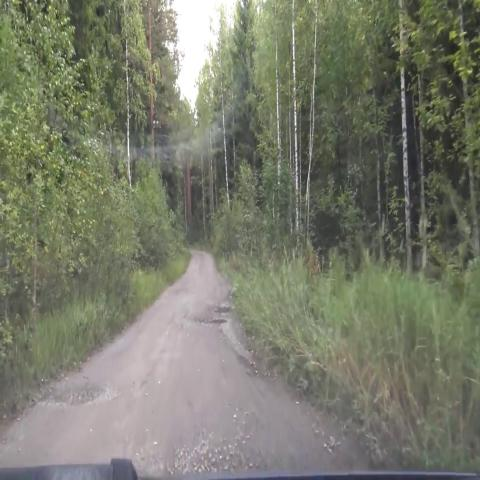pothole: (55, 376, 110, 412), (207, 289, 234, 320), (197, 314, 230, 338)
